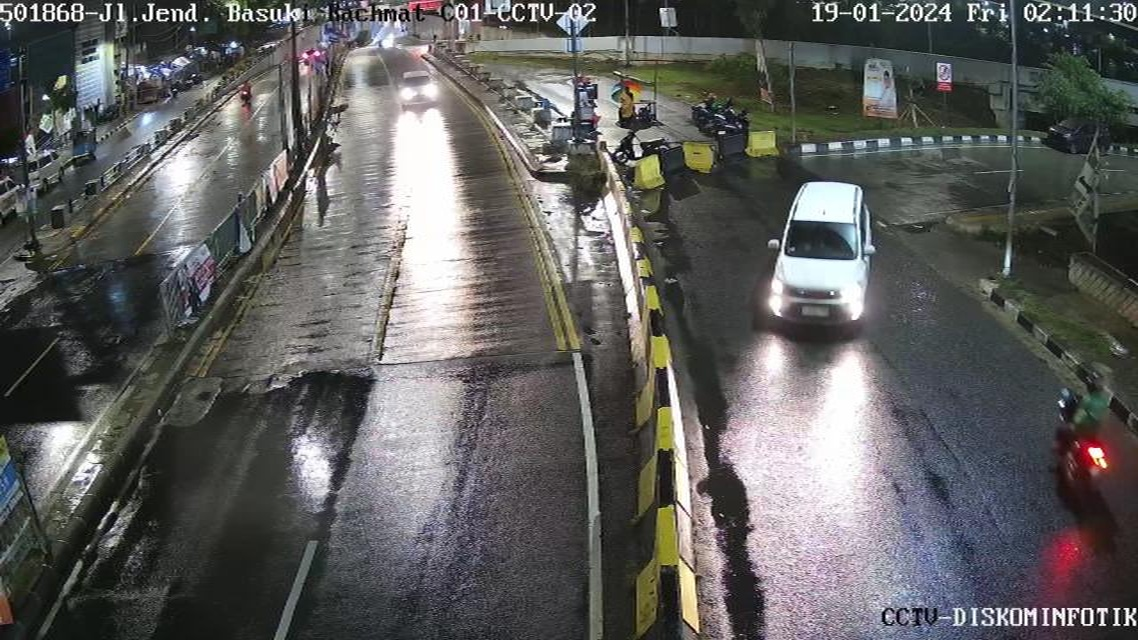Gerobak: (574, 77, 603, 129)
